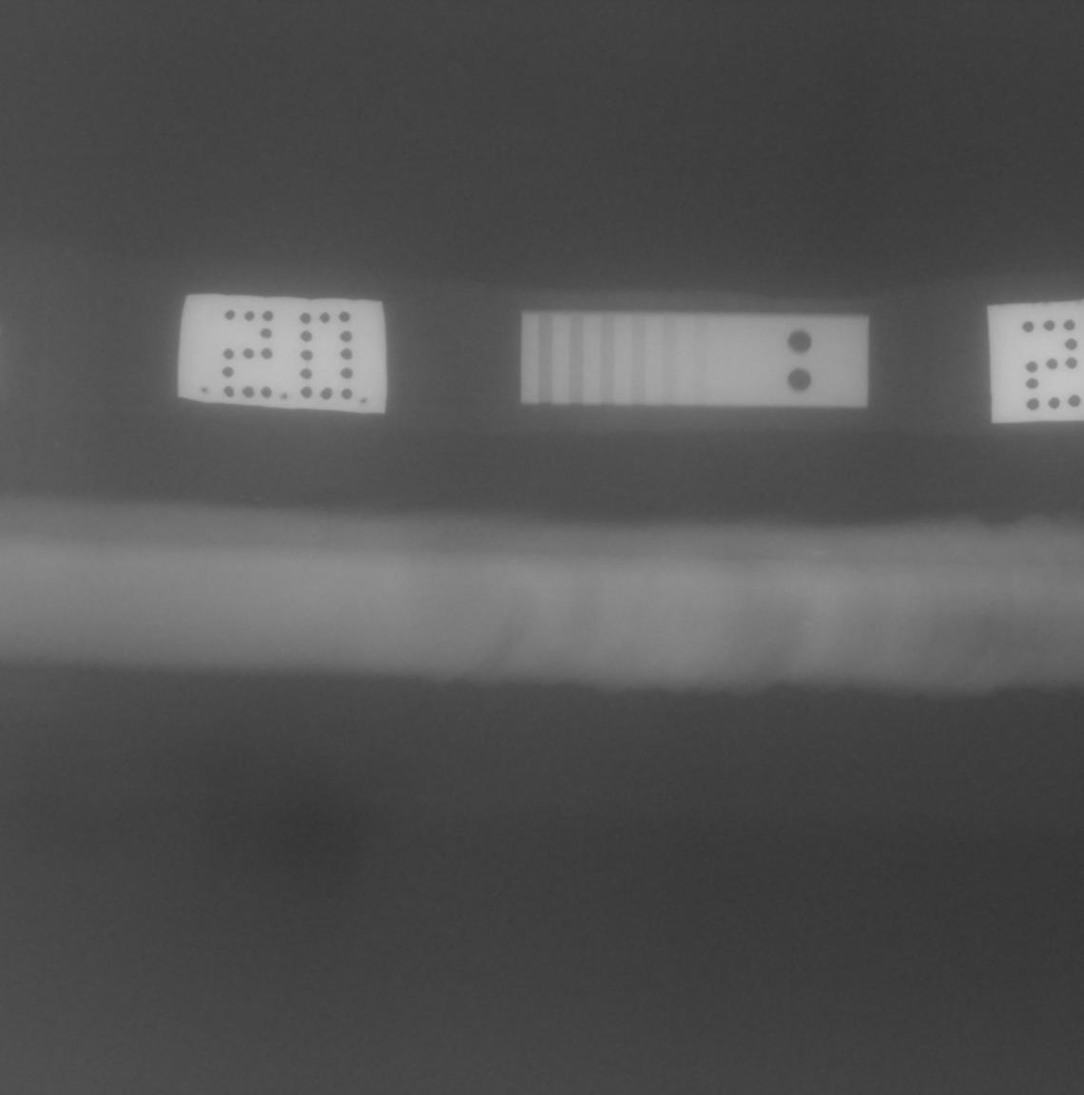Inclusion: (514, 536, 544, 542)
Reference Standard 2: (521, 310, 869, 408)
